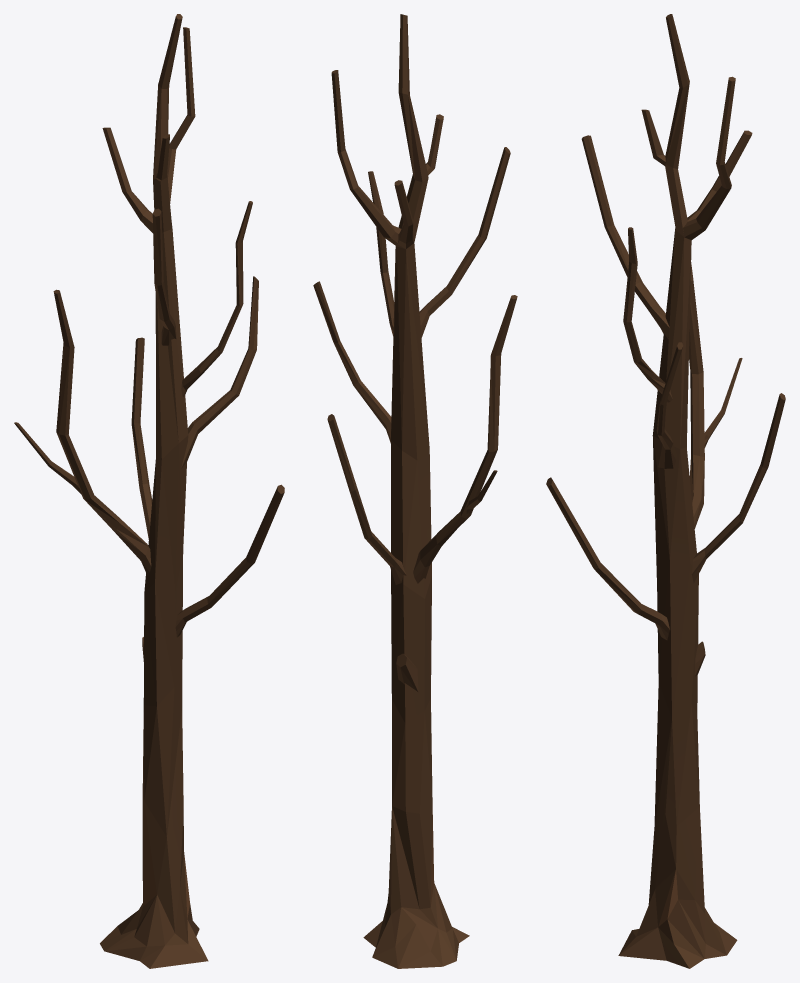
The model's file is TreeOne.fbx.
3 renders of one model, left to right at view 1: azimuth 30°, elevation 25°; view 2: azimuth 150°, elevation 25°; view 3: azimuth 270°, elevation 25°, orthographic.
Parts seen in each view (by area): view 1: tree_poplar_dead_a__10_; view 2: tree_poplar_dead_a__10_; view 3: tree_poplar_dead_a__10_.
Part boxes in pixels (x1,y1,x2,y2): tree_poplar_dead_a__10_: (14,14,284,968); tree_poplar_dead_a__10_: (313,14,517,968); tree_poplar_dead_a__10_: (546,14,785,968).
Size of the model in its own units: 149 by 618 by 143.
